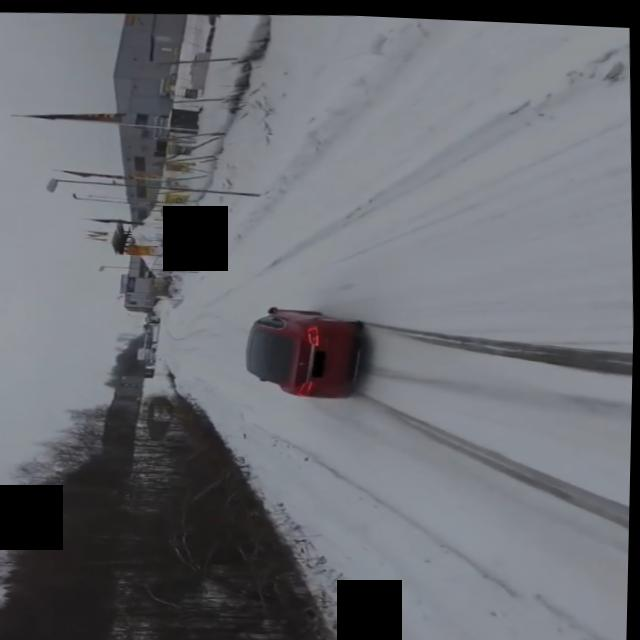Pole: (43, 166, 268, 207), (92, 257, 204, 277)
Vehicle: (219, 294, 376, 405)
